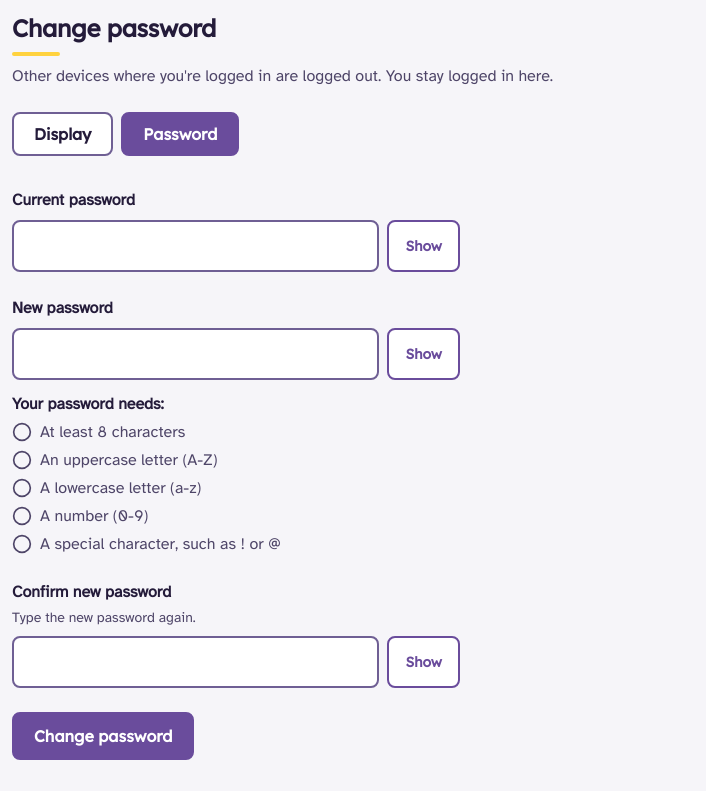
ChangePasswordPage › shows a wrong current password from the server
Type "Wrong@123" into the password field labelled "Current password" at (196, 246), box [12,220,379,272]
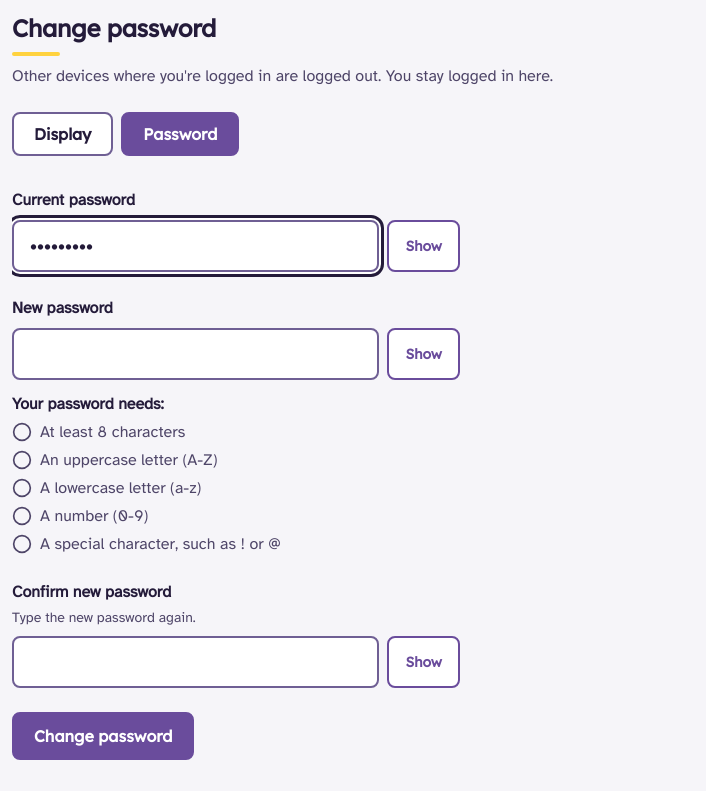
Type "Better@2026" into the password field labelled "New password" at (196, 354), box [12,328,379,380]
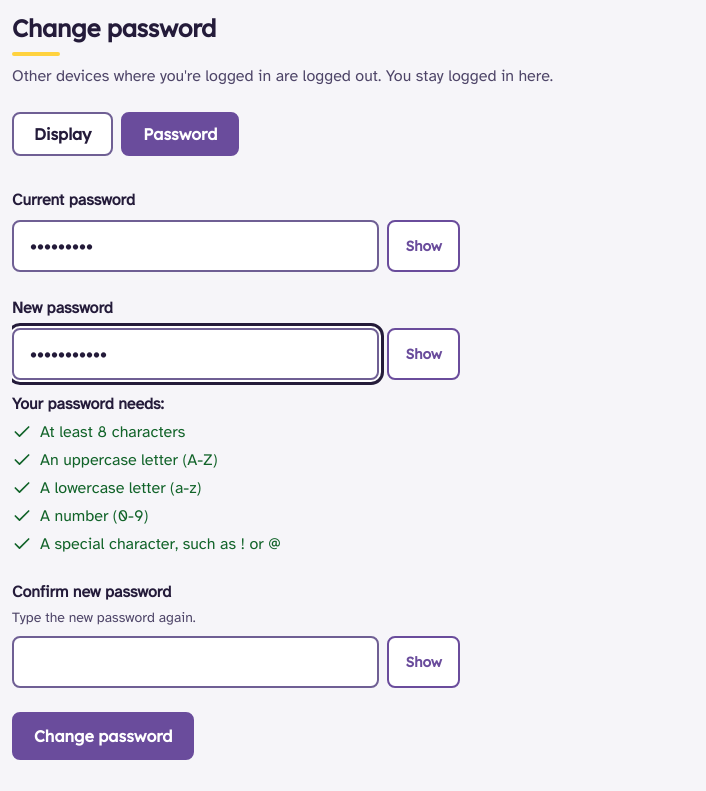
Type "Better@2026" into the password field labelled "Confirm new password" at (196, 662), box [12,636,379,688]
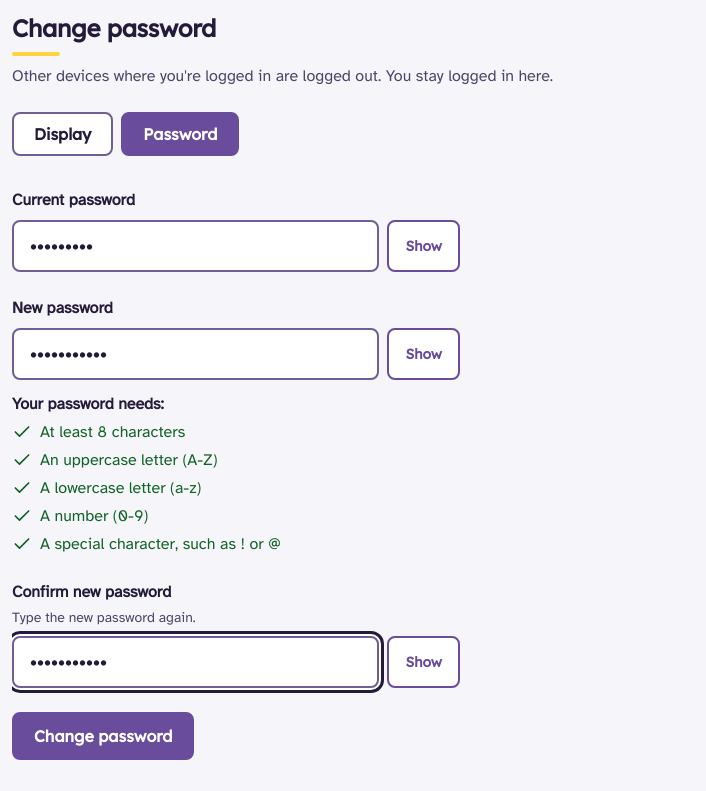
Click the button "Change password" at (103, 736), box [12,712,194,760]
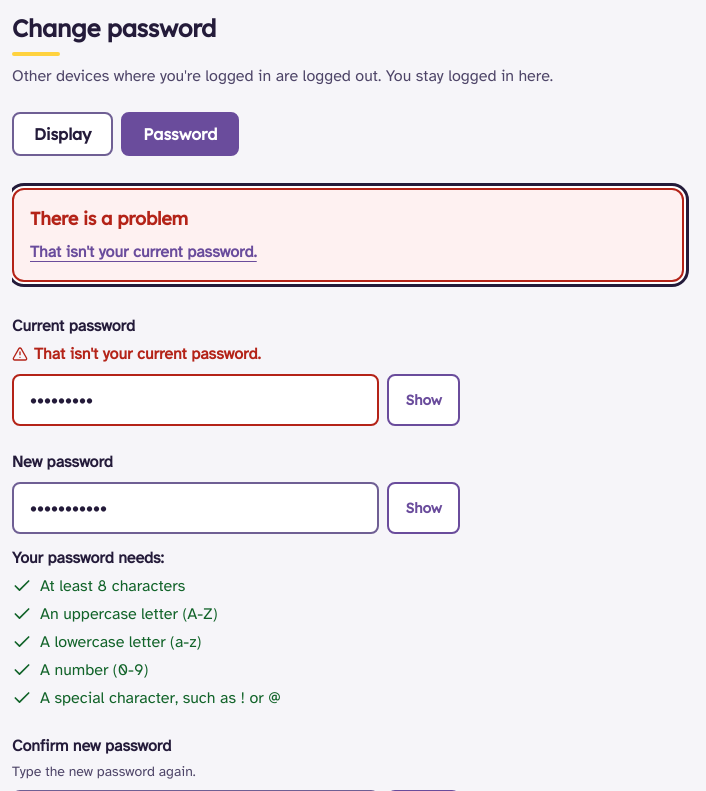
Now the number of links "That isn't your current password." is 2, box [30,242,257,262]; [34,342,261,366]
